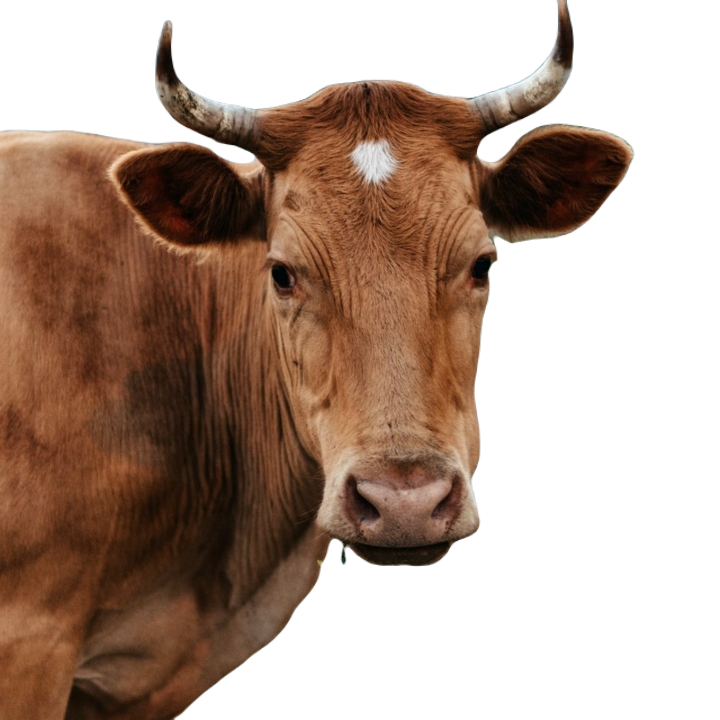Cow: (0, 3, 633, 719)
